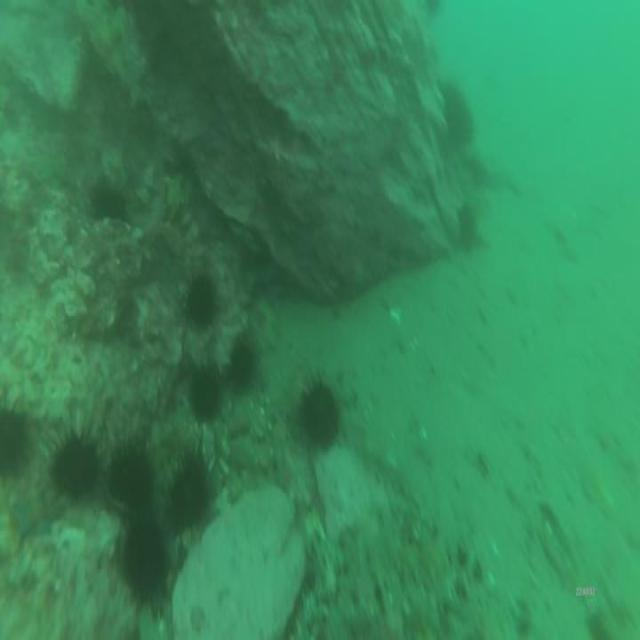echinus: (116, 509, 174, 618), (45, 420, 103, 504), (165, 444, 216, 534), (102, 436, 156, 515), (295, 372, 342, 454), (0, 395, 34, 488), (185, 357, 226, 430), (441, 77, 479, 152), (182, 269, 220, 335), (226, 332, 263, 398), (89, 180, 131, 231), (453, 194, 481, 253)
starfish: (9, 487, 67, 550)
